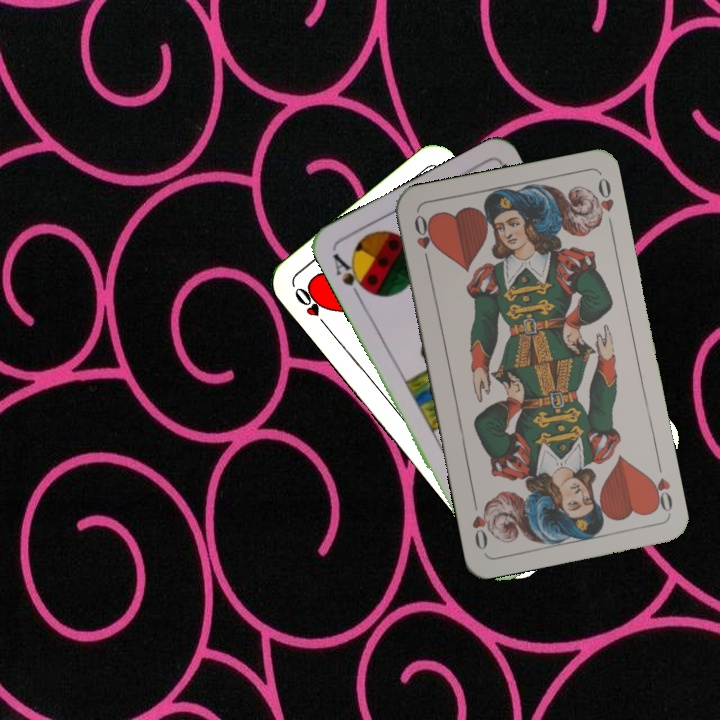HO: (290, 282, 332, 332), (644, 457, 675, 516), (410, 210, 437, 268)
SA: (328, 249, 372, 303)
